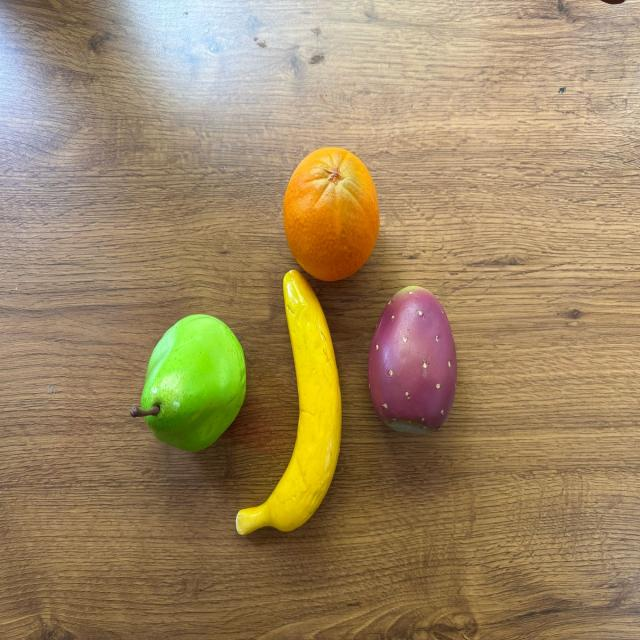banana: (235, 270, 342, 534)
orange: (282, 146, 380, 280)
pear: (131, 314, 247, 449)
tuna: (366, 286, 458, 434)
